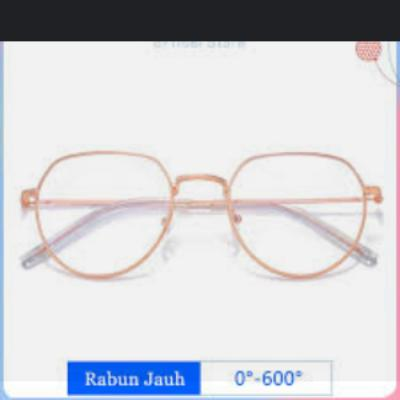glasses: (19, 148, 386, 294)
